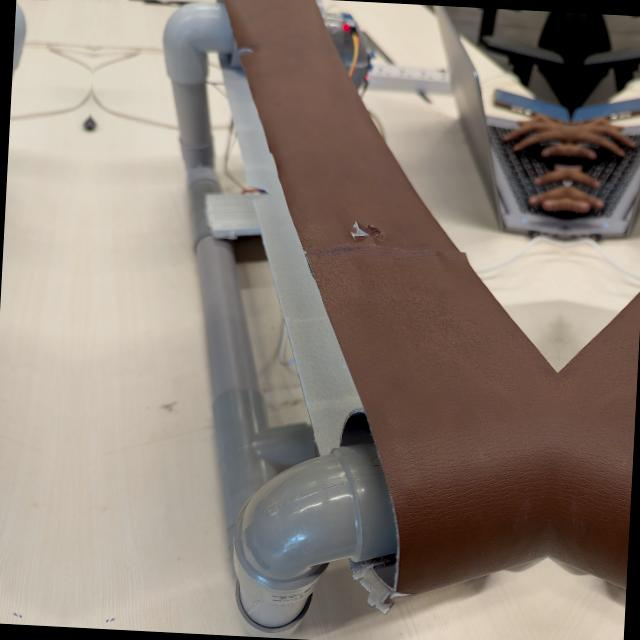joint_damage: (334, 216, 383, 255)
